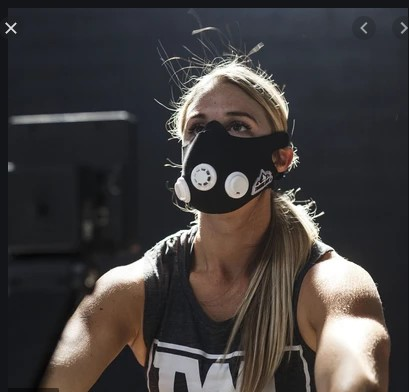face_with_mask: (172, 76, 296, 218)
